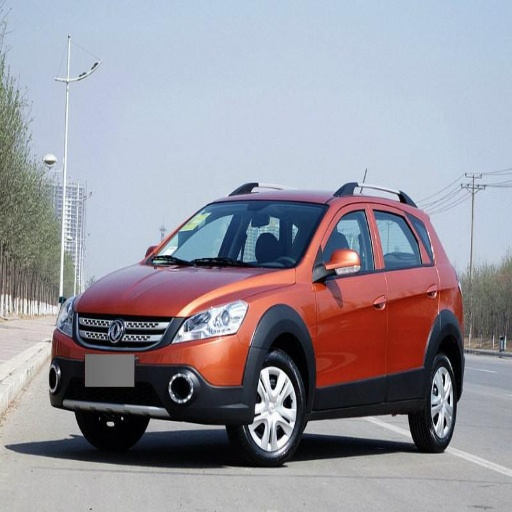front_bumper: (49, 310, 251, 424)
front_glass: (144, 200, 327, 268)
front_left_door: (313, 201, 387, 402)
